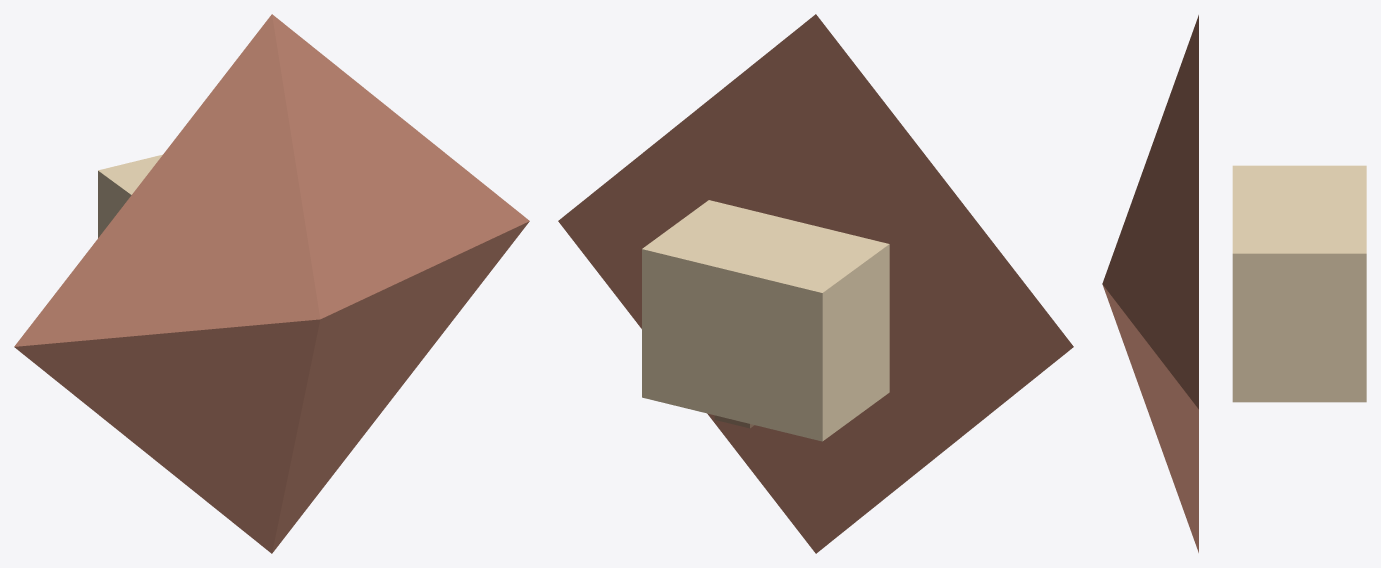
Rendered from house.glb.
The picture shows the model from 3 angles, left to right: view 1: azimuth 30°, elevation 25°; view 2: azimuth 150°, elevation 25°; view 3: azimuth 270°, elevation 25°; orthographic projection.
Visible parts, largest first — view 1: roof, walls; view 2: roof, walls; view 3: walls, roof.
Boxes of the visible parts, x1,y1,x2,y2 form: roof: (14,14,529,553); walls: (98,154,162,237); roof: (558,14,1073,553); walls: (642,200,889,441); walls: (1232,165,1366,402); roof: (1102,15,1198,552).
Bounding box in the file's own units: 8 × 8 × 3.55.
